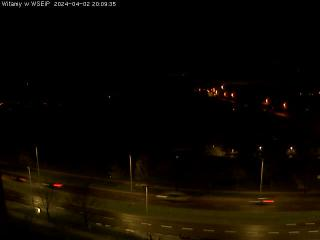car: (156, 191, 190, 203), (250, 195, 275, 205), (42, 180, 63, 189), (9, 174, 25, 182)
